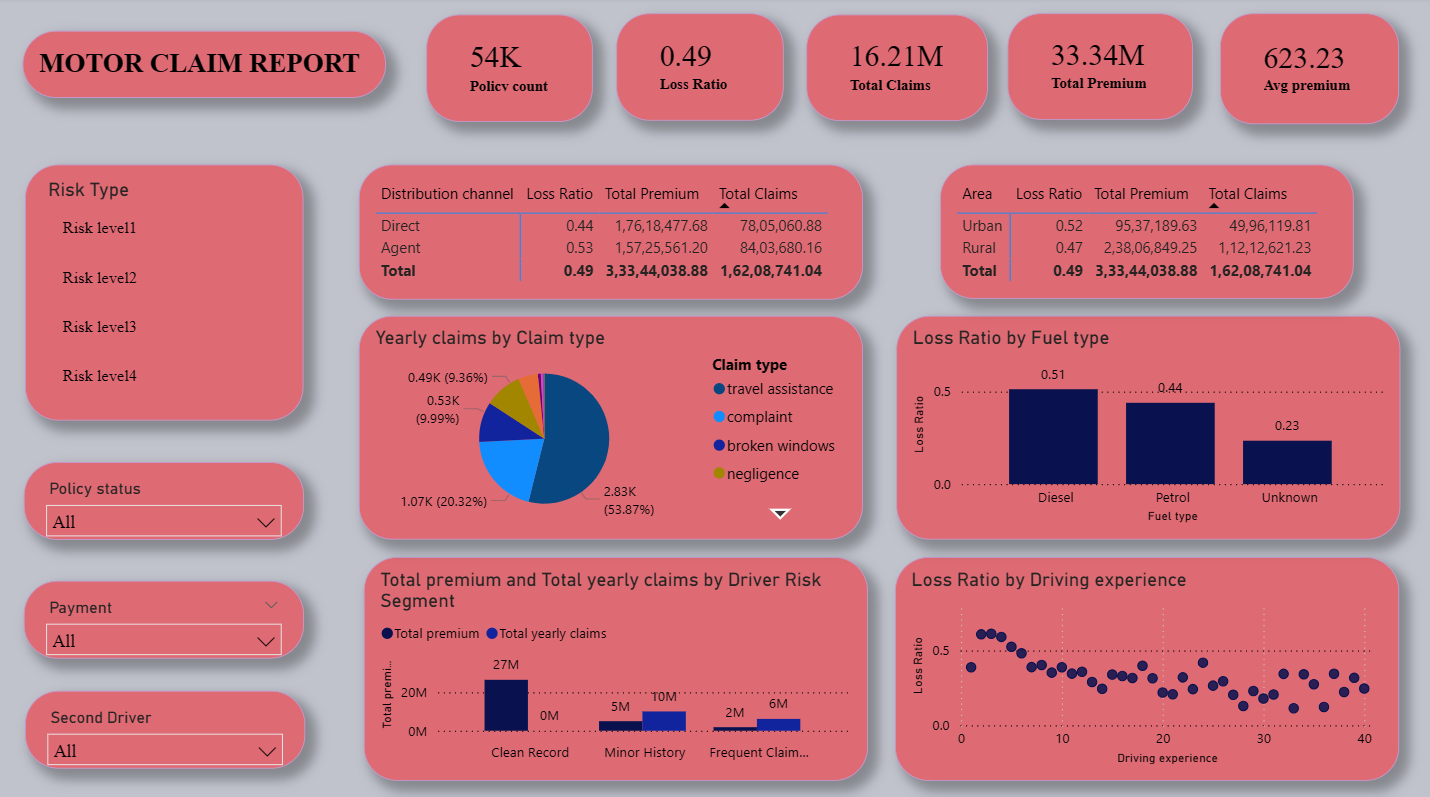

What the dashboard file says about the page in this screenshot:
{"tool":"powerbi","page":{"name":"Dashboard","canvas":[1280,720],"ordinal":0},"visuals":[{"type":"cardVisual","fields":{"Data":["DAX.Loss Ratio"]},"box":[550,15,149.6,96],"z":0},{"type":"pivotTable","fields":{"Values":["DAX.Loss Ratio","DAX.Total Premium","DAX.Total Claims"],"Rows":["dim_policy.distribution_channel"]},"box":[320.5,150,450,120.6],"z":1000},{"type":"cardVisual","fields":{"Data":["DAX.Total Premium"]},"box":[900,15,165.3,94.9],"z":2000},{"type":"cardVisual","fields":{"Data":["DAX.Total Claims"]},"box":[719.8,15.1,162.8,95.3],"z":3000},{"type":"cardVisual","fields":{"Data":["DAX.Avg premium"]},"box":[1090,15,160,99],"z":4000},{"type":"cardVisual","fields":{"Data":["DAX.Policy count"]},"box":[380.2,15.1,149,96],"z":5000},{"type":"scatterChart","fields":{"X":["dim_customer.cutomer_driving_experience"],"Y":["DAX.Loss Ratio"]},"box":[800,500,450,200],"z":6000},{"type":"clusteredColumnChart","fields":{"Category":["fact_insurance.driver_risk_segment"],"Y":["Sum(fact_insurance.premium)","Sum(fact_insurance.claim_cost_yearly)"]},"box":[325,500,450,200],"z":7000},{"type":"clusteredColumnChart","fields":{"Category":["dim_vehicle.vehicle_fuel_type"],"Y":["DAX.Loss Ratio"]},"box":[801.2,284.9,450,200],"z":8000},{"type":"pieChart","fields":{"Category":["dim_claim.claim_type"],"Y":["CountNonNull(dim_claim.yearly_claims)"]},"box":[320,285,450,200],"z":9000},{"type":"advancedSlicerVisual","title":"Risk Type","fields":{"Values":["dim_policy.risk_type"]},"box":[22.1,150,248.8,229.1],"z":10000},{"type":"slicer","fields":{"Values":["dim_policy.policy_status"]},"box":[20.9,415.1,250,69.8],"z":11000},{"type":"slicer","fields":{"Values":["dim_policy.payment"]},"box":[20.9,520.9,250,69.8],"z":12000},{"type":"slicer","fields":{"Values":["dim_policy.second_driver"]},"box":[22.1,619.8,250,69.8],"z":13000},{"type":"textbox","box":[20,30.2,325,60],"z":14000},{"type":"pivotTable","fields":{"Rows":["dim_policy.area"],"Values":["DAX.Loss Ratio","DAX.Total Premium","DAX.Total Claims"]},"box":[840,150,369.8,119.8],"z":15000}]}

Visuals, with their boxes in screenshot pixels (x1, y1, x2, y2), scaled from the page's 1280x720 canvas onto the 1430x797 screenshot:
cardVisual - DAX.Loss Ratio: 614 17 782 123
pivotTable - DAX.Loss Ratio x DAX.Total Premium: 358 166 861 300
cardVisual - DAX.Total Premium: 1005 17 1190 122
cardVisual - DAX.Total Claims: 804 17 986 122
cardVisual - DAX.Avg premium: 1218 17 1396 126
cardVisual - DAX.Policy count: 425 17 591 123
scatterChart - dim_customer.cutomer_driving_experience x DAX.Loss Ratio: 894 553 1396 775
clusteredColumnChart - fact_insurance.driver_risk_segment x Sum(fact_insurance.premium): 363 553 866 775
clusteredColumnChart - dim_vehicle.vehicle_fuel_type x DAX.Loss Ratio: 895 315 1398 537
pieChart - dim_claim.claim_type x CountNonNull(dim_claim.yearly_claims): 358 315 860 537
"Risk Type" advancedSlicerVisual: 25 166 303 420
slicer - dim_policy.policy_status: 23 459 303 537
slicer - dim_policy.payment: 23 577 303 654
slicer - dim_policy.second_driver: 25 686 304 763
textbox: 22 33 385 100
pivotTable - dim_policy.area x DAX.Loss Ratio: 938 166 1352 299
